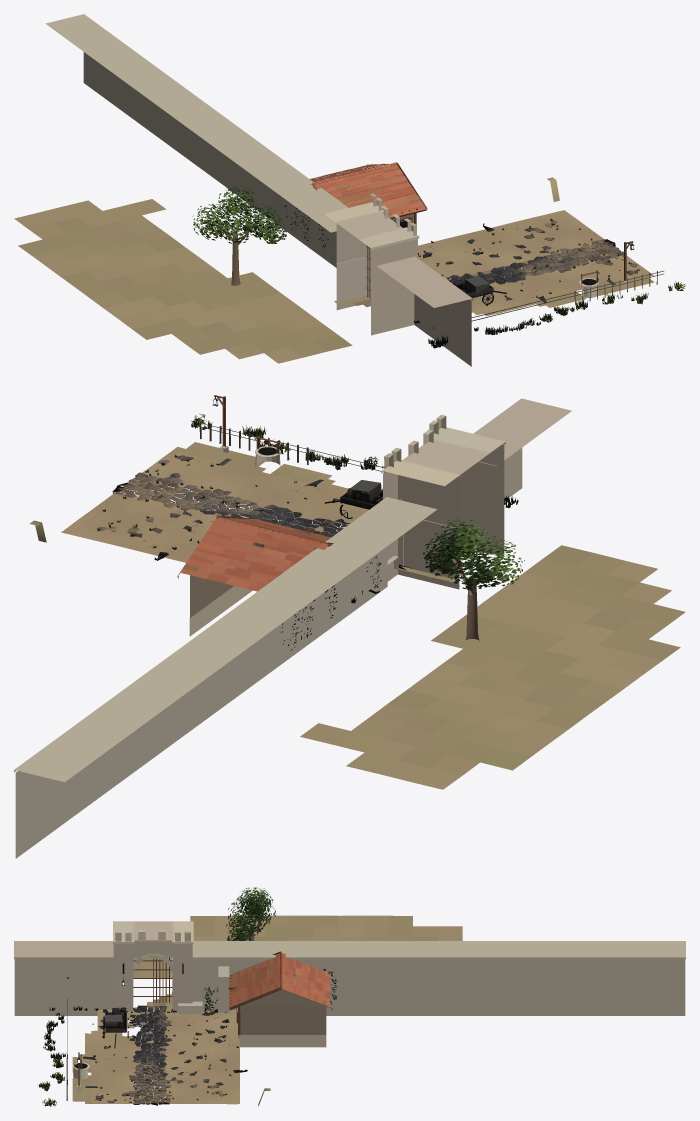
The model's file is barrio_caravanas.glb.
The picture shows the model from 3 angles, top to bottom: view 1: azimuth 30°, elevation 25°; view 2: azimuth 150°, elevation 25°; view 3: azimuth 270°, elevation 25°; orthographic projection. The views are drawn at different scales.
Visible parts, largest first — view 1: fijo_caravanas, piezas_caravanas, vegetacion_caravanas; view 2: fijo_caravanas, piezas_caravanas, vegetacion_caravanas; view 3: fijo_caravanas, piezas_caravanas, vegetacion_caravanas.
Part boxes in pixels (x1,y1,x2,y2): fijo_caravanas: (14, 14, 654, 366); piezas_caravanas: (415, 220, 663, 323); vegetacion_caravanas: (192, 185, 685, 348); fijo_caravanas: (14, 395, 685, 858); piezas_caravanas: (97, 420, 411, 593); vegetacion_caravanas: (97, 413, 524, 650); fijo_caravanas: (14, 915, 685, 1106); piezas_caravanas: (66, 999, 246, 1105); vegetacion_caravanas: (39, 887, 336, 1106).
Bounding box in the file's own units: 36.75 × 7.71 × 54.3.
